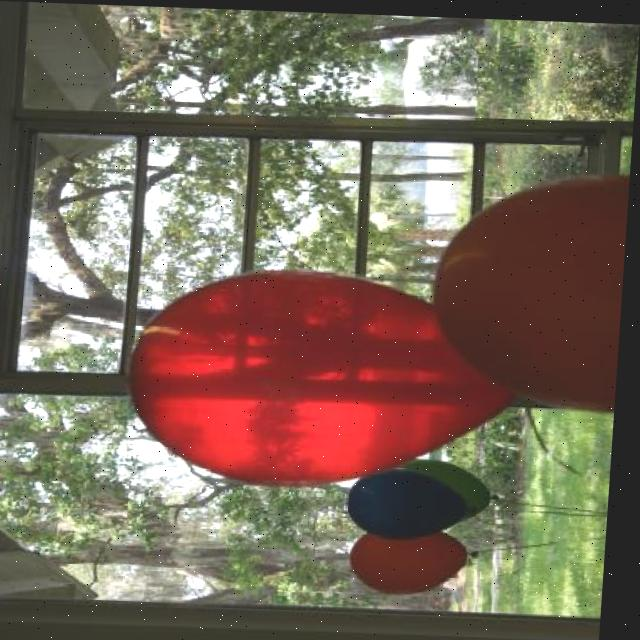balloon: (116, 249, 544, 485), (417, 153, 633, 425), (353, 446, 494, 538), (348, 504, 488, 592), (387, 457, 508, 516)
